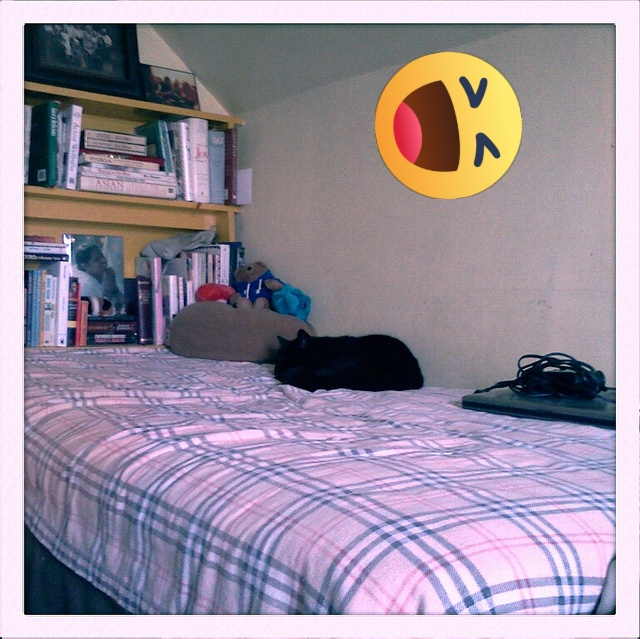haha: (375, 52, 522, 199)
